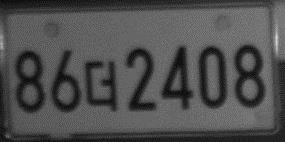0: (198, 46, 228, 108)
2: (124, 46, 158, 112)
4: (159, 45, 195, 111)
6: (48, 48, 82, 112)
8: (232, 43, 266, 109), (13, 49, 46, 112)
더: (83, 59, 118, 113)
